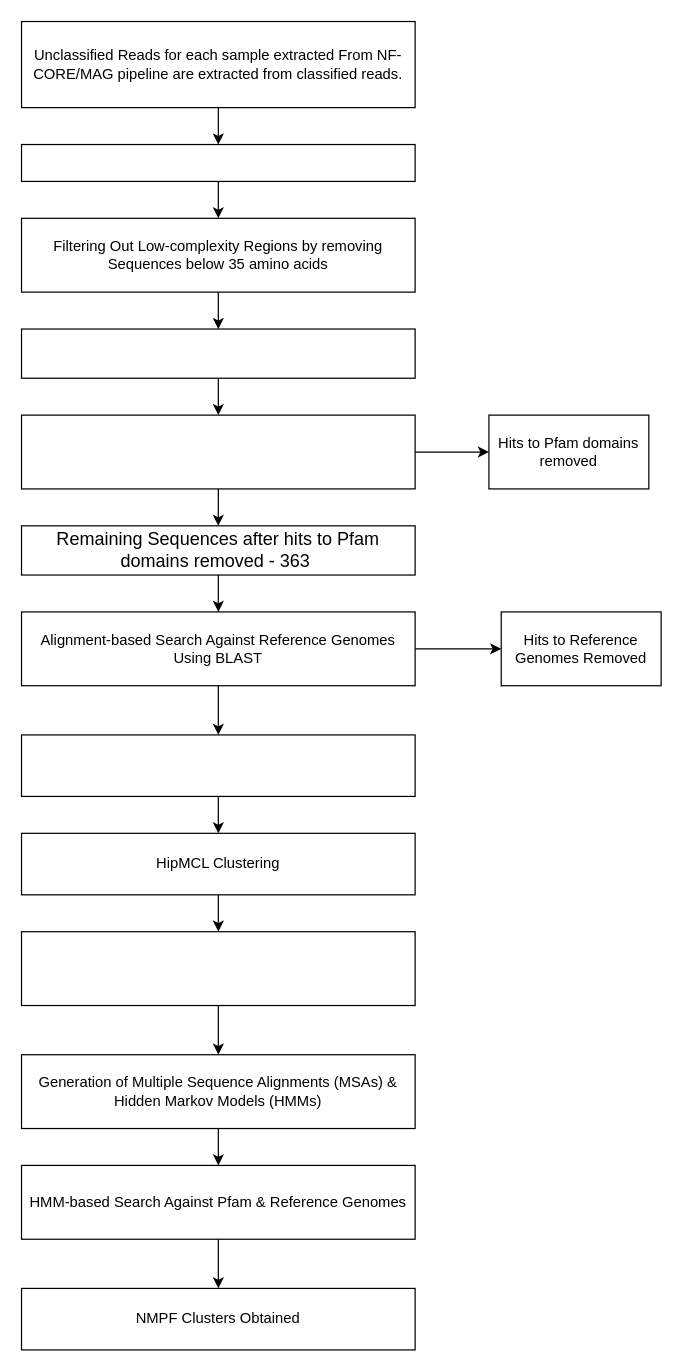
The diagram is 683 pixels wide and 1371 high, and some of its shapes have lost their labels. The shapes that lost their labels are listed below. From the top down, each one's centre as x and y in pixels, then its label:
the point at 217,162: Initial DNA/ protein sequences - 15,828,230
the point at 217,353: Filtered Protein sequences - 14,233,215
the point at 217,451: HMM-based Search against Pfam
the point at 217,765: Generation of Sequence Similarity Network
the point at 217,968: Keeping Clusters with say - 100 or more members
